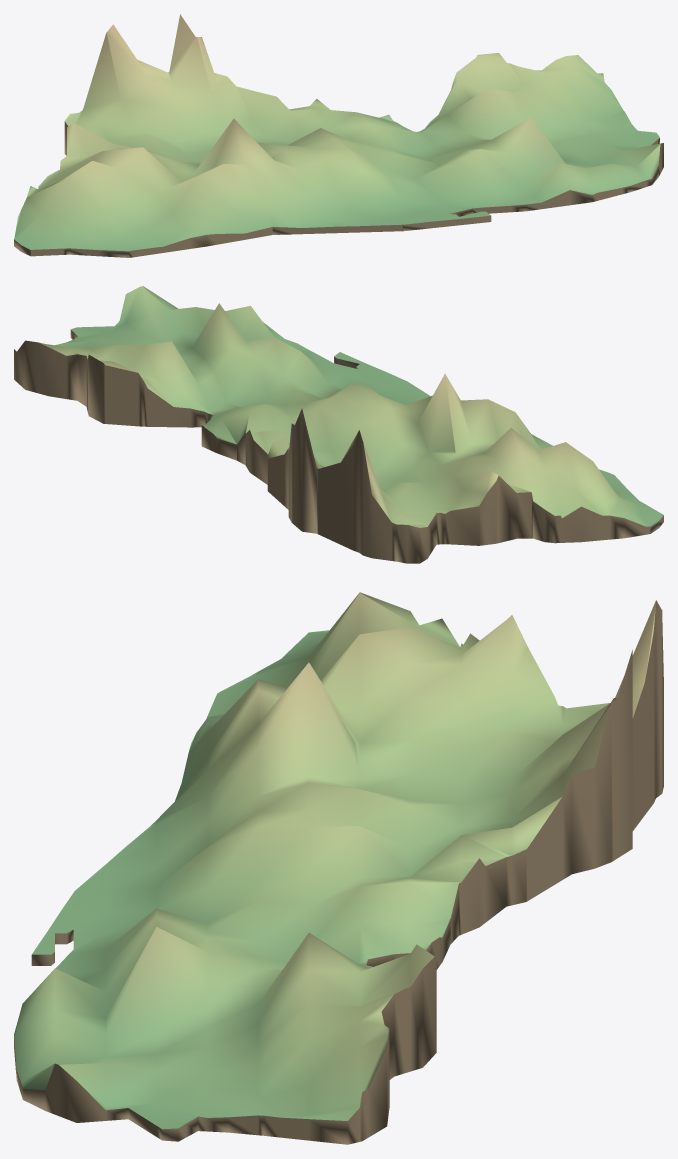
File: SLV.glb
3 views of the same model, one above another, from view 1: azimuth 30°, elevation 25°; view 2: azimuth 150°, elevation 25°; view 3: azimuth 270°, elevation 25° (orthographic). The views are drawn at different scales.
Parts seen in each view (by area): view 1: SLV; view 2: SLV; view 3: SLV.
Boxes of the visible parts, box(x1,y1,x2,y2) form: SLV: box(14, 14, 663, 257); SLV: box(14, 286, 663, 563); SLV: box(14, 592, 663, 1144).
Size of the model in its own units: 1.83 by 0.338 by 0.9987.
